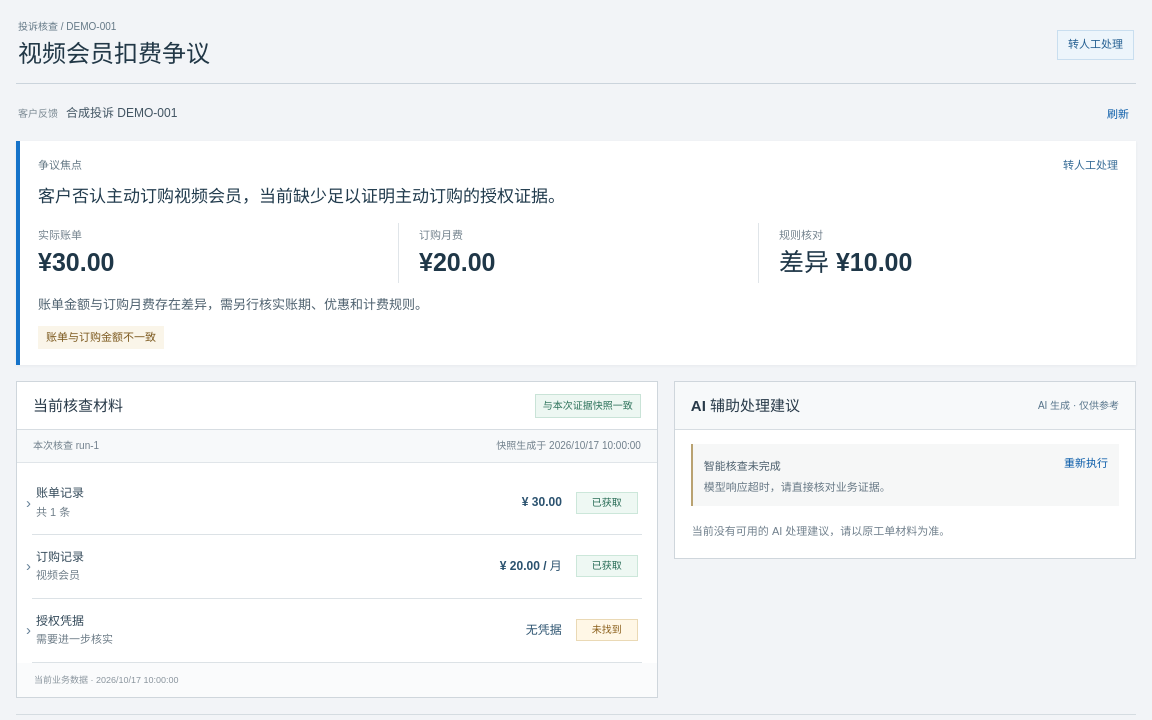
预审业务模块 › 模型失败不虚构建议，并允许有权限人员授权异步重试
Click the button "重新执行" at (1086, 464), box [1059,452,1113,476]
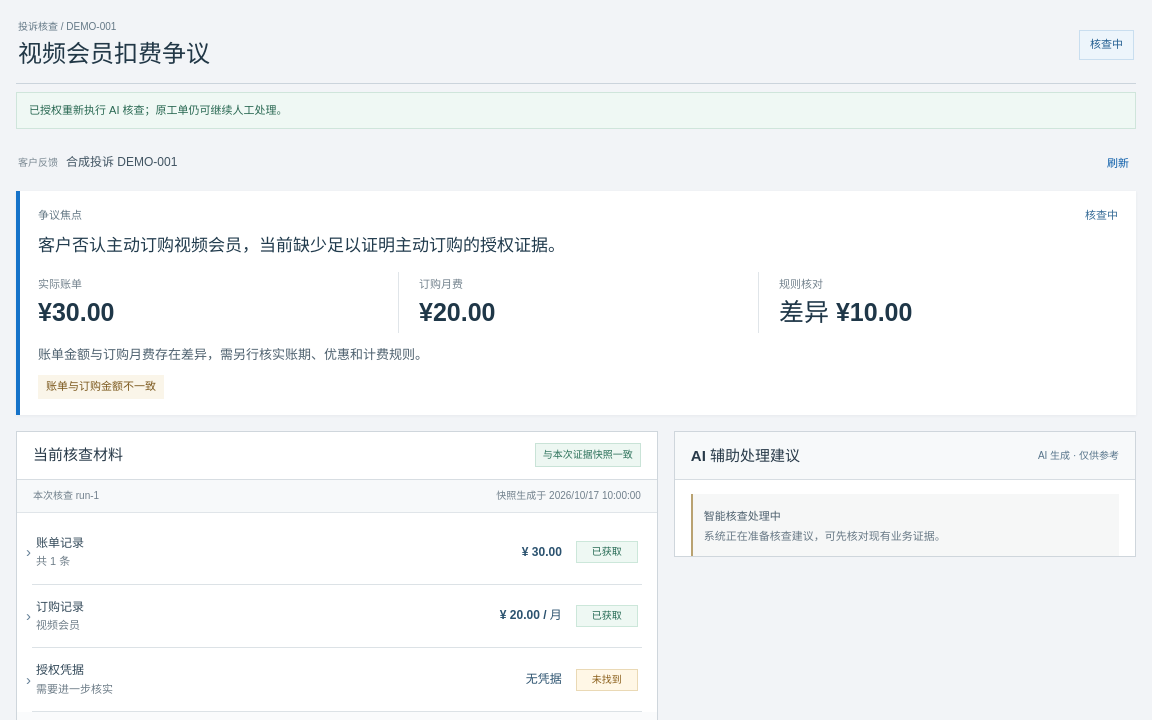
Expected: the text "已授权重新执行 AI 核查" is shown, [29,104,288,116]
Expected: the text "系统正在准备核查建议" is shown, [704,530,946,542]
